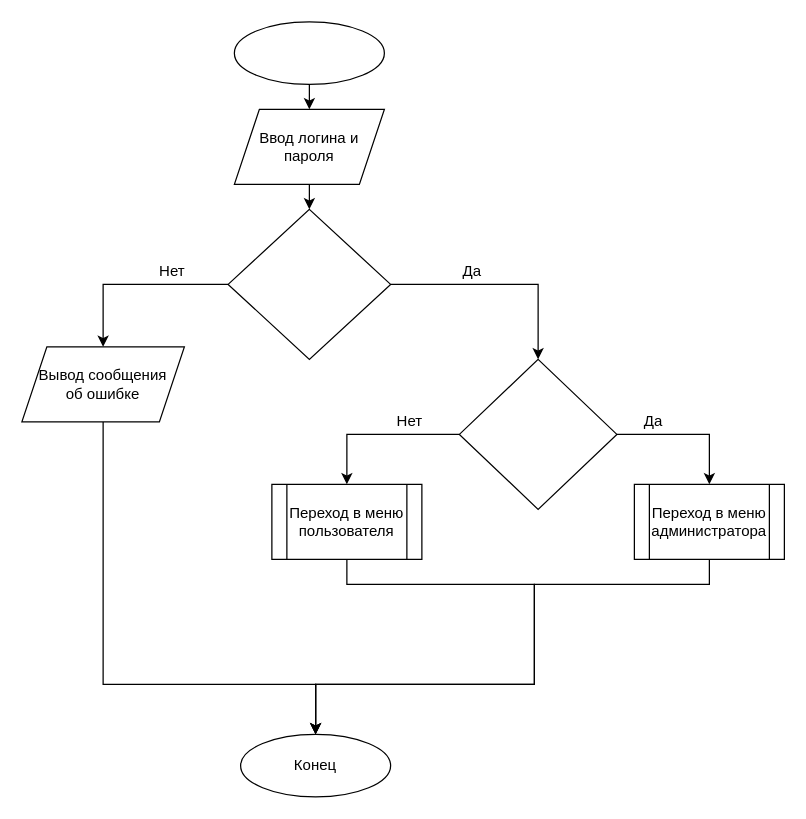
Some shapes in this 806 by 819 pixel diagram are drawn without their labels. The shapes that lost their labels are listed below. From the top down, each one's box as (x1, y1, x2, y2) in pixels, then its label:
(233, 21, 384, 84): Начало
(227, 208, 391, 359): Пользователь существует и пароль верный
(458, 358, 617, 509): Пользователь обладает правами администратора
